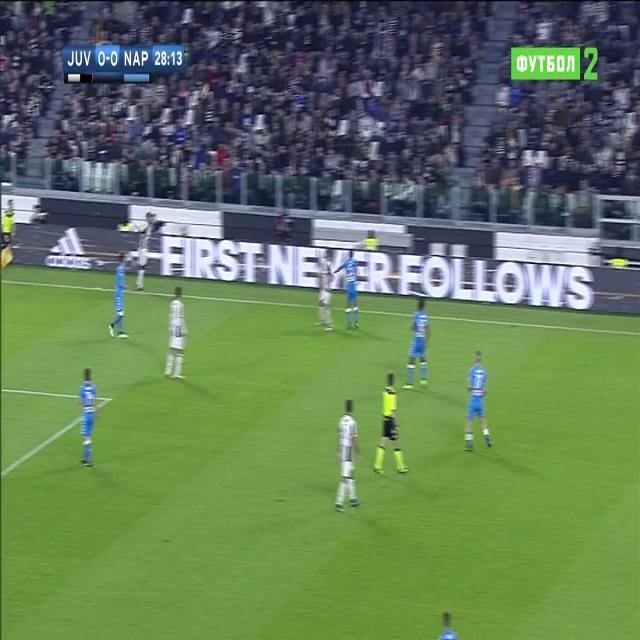Player: (463, 347, 497, 456), (334, 398, 363, 516), (401, 296, 434, 392), (75, 365, 100, 471), (163, 284, 189, 382), (333, 250, 362, 332), (106, 252, 130, 343), (313, 252, 337, 332), (132, 216, 153, 292)
Referee: (372, 368, 408, 482)
